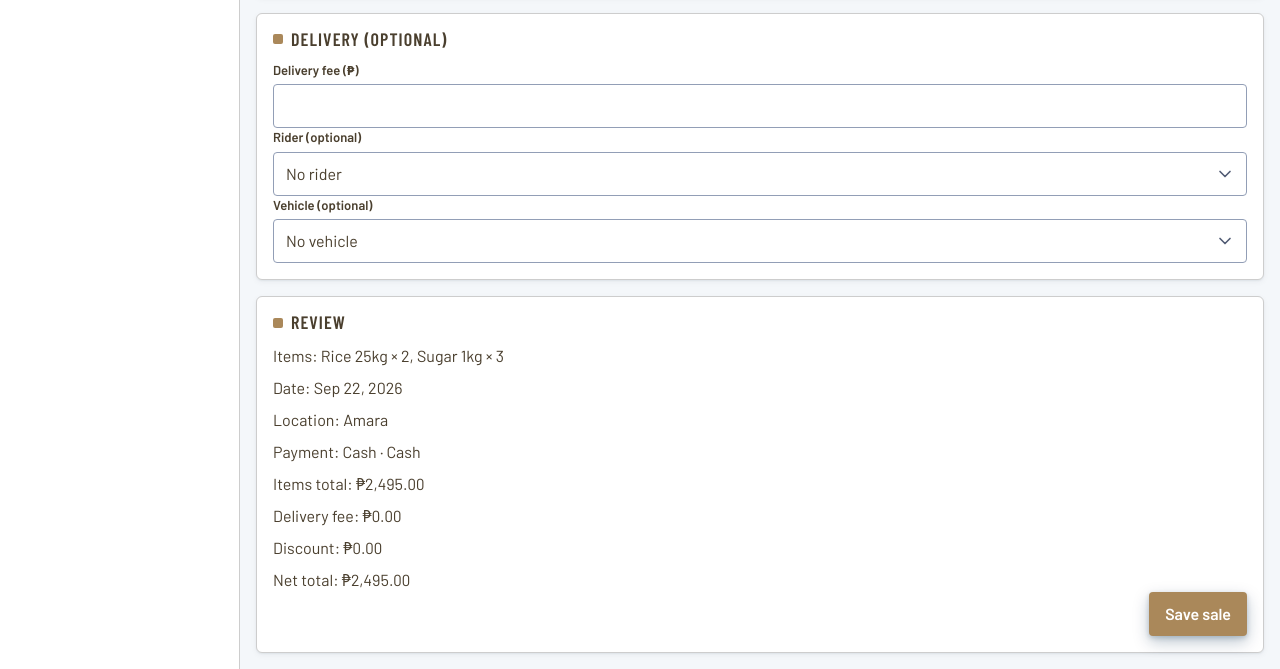
Scenario: SaleCartPage › records a cash sale and returns to the sales list
(page scrolled)
Click the button "Save sale": (1198, 614) x1=1149 y1=592 x2=1247 y2=636
(page scrolled)
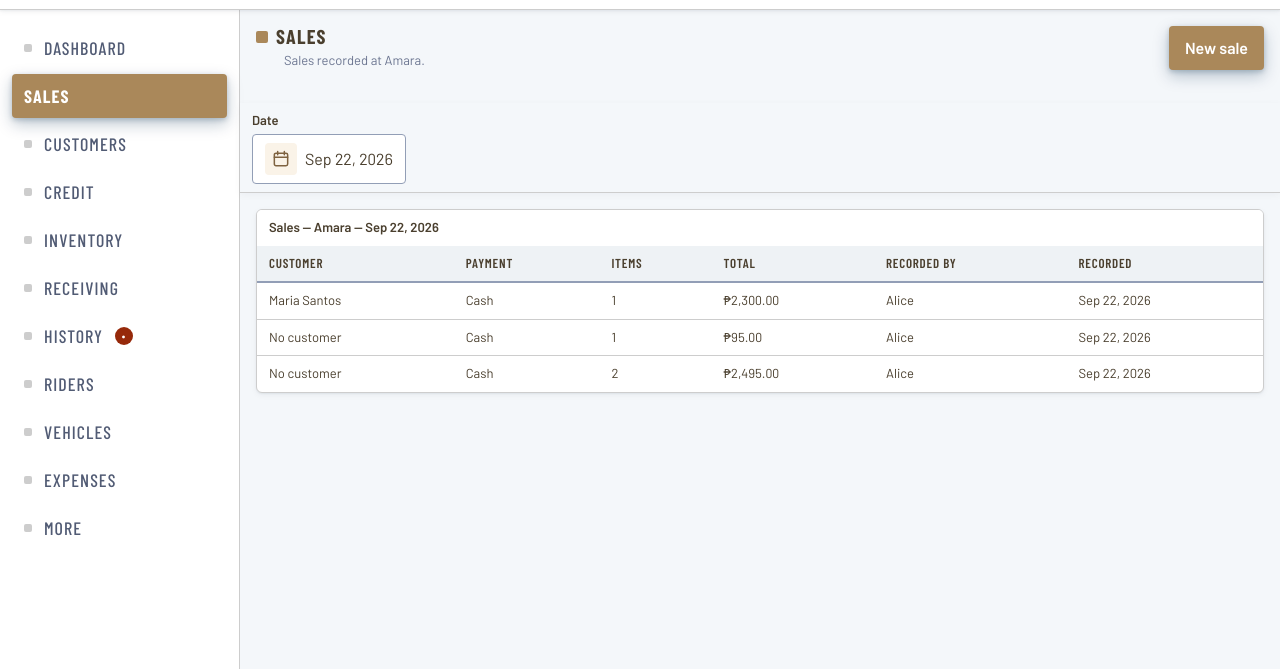
Expected: the heading "Sales" is shown, x1=276 y1=26 x2=327 y2=47
